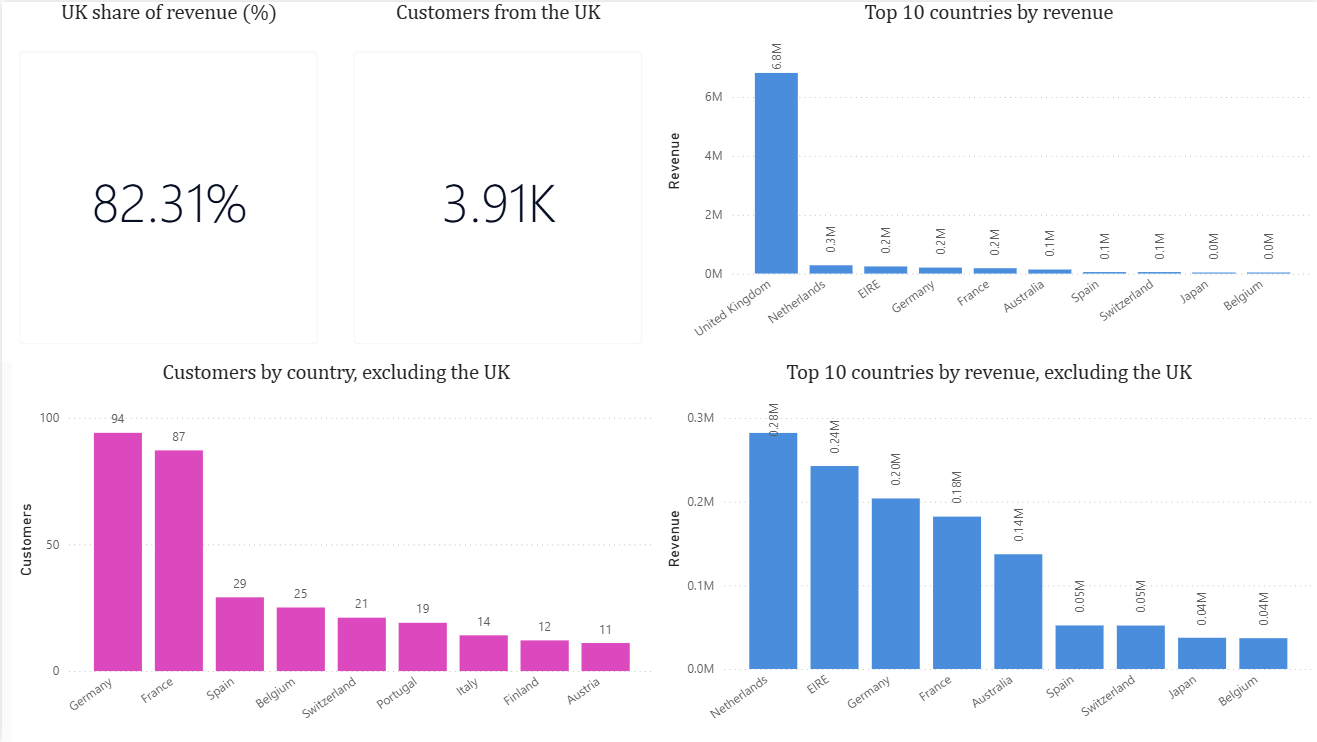

This screenshot's page, from the dashboard's own definition file:
{"tool":"powerbi","page":{"name":"Page 3","canvas":[1280,720],"ordinal":2},"visuals":[{"type":"clusteredColumnChart","title":"Top 10 countries by revenue","fields":{"Category":["country_Summary.Country"],"Y":["Sum(country_Summary.TotalRevenue)"]},"box":[640,0,640,350.2],"z":0},{"type":"clusteredColumnChart","title":"Top 10 countries by revenue, excluding the UK","fields":{"Category":["country_Summary.Country"],"Y":["Sum(country_Summary.TotalRevenue)"]},"box":[640,350.2,640,370.6],"z":1000},{"type":"cardVisual","title":"UK share of revenue (%)","fields":{"Data":["country_Summary.UK Revenue Share"]},"box":[0,0,324.9,350.2],"z":2000},{"type":"clusteredColumnChart","title":"Customers by country, excluding the UK","fields":{"Category":["country_Summary.Country"],"Y":["Sum(country_Summary.Customers)"]},"box":[9.7,350.2,630.3,370.6],"z":3000},{"type":"cardVisual","title":"Customers from the UK","fields":{"Data":["Sum(country_Summary.Customers)"]},"box":[324.9,0,315.1,350.2],"z":4000}]}

Visuals, with their boxes in screenshot pixels (x1, y1, x2, y2), scaled from the page's 1280x720 canvas onto the 1317x742 screenshot:
"Top 10 countries by revenue" clusteredColumnChart: <bbox>658, 0, 1316, 361</bbox>
"Top 10 countries by revenue, excluding the UK" clusteredColumnChart: <bbox>658, 361, 1316, 741</bbox>
"UK share of revenue (%)" cardVisual: <bbox>0, 0, 334, 361</bbox>
"Customers by country, excluding the UK" clusteredColumnChart: <bbox>10, 361, 658, 741</bbox>
"Customers from the UK" cardVisual: <bbox>334, 0, 658, 361</bbox>
